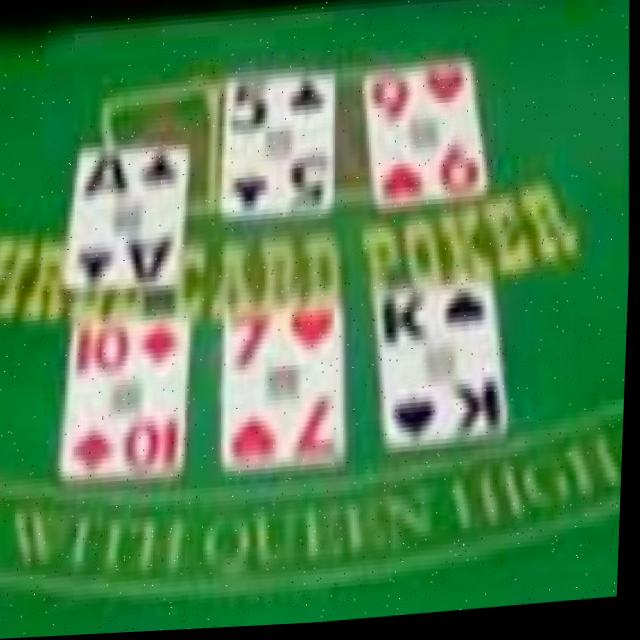Card-10: (65, 317, 194, 476)
Card-5: (226, 73, 335, 219)
Card-7: (230, 302, 345, 473)
Card-9: (367, 60, 487, 211)
Card-A: (67, 144, 190, 289)
Card-K: (382, 287, 508, 453)
